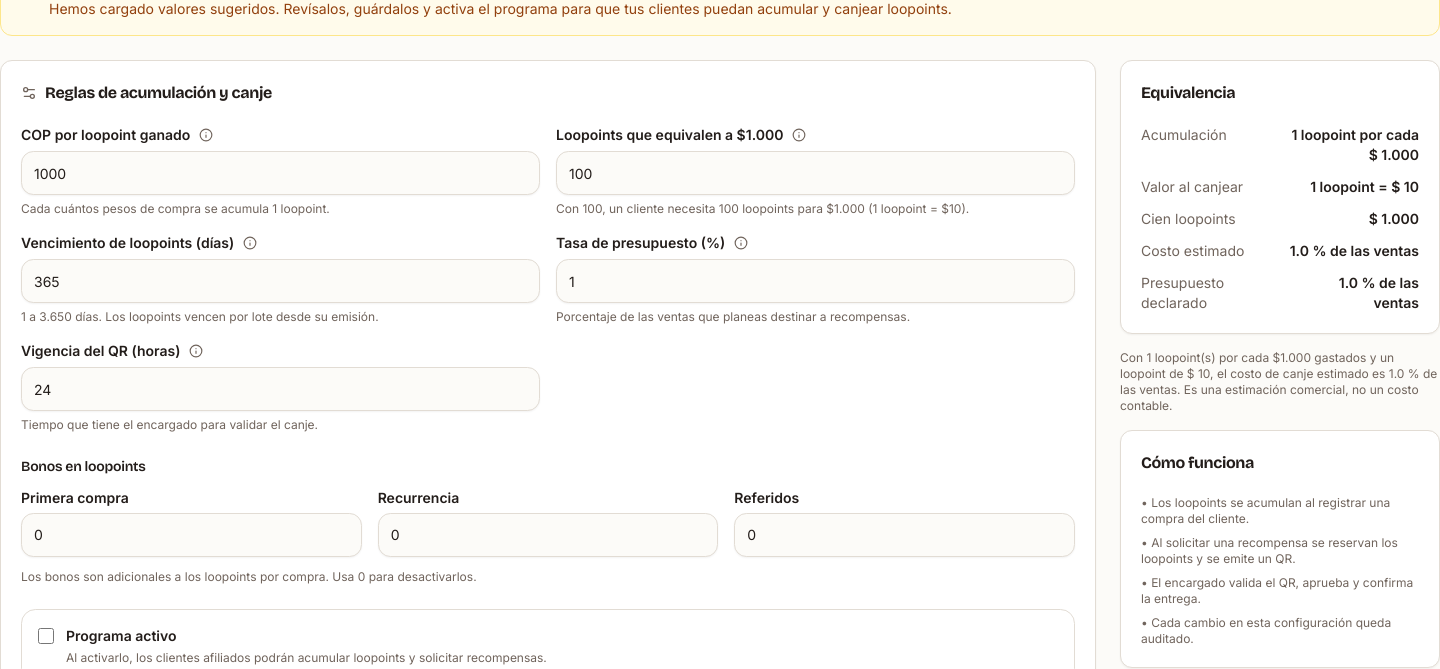
Test: ProgramPage › bloquea el guardado con un vencimiento inválido
The image size is (1440, 669).
Replace the text in the field labelled "Vencimiento de loopoints (días)" with "0": (280, 281) [21, 259, 540, 303]
(page scrolled)
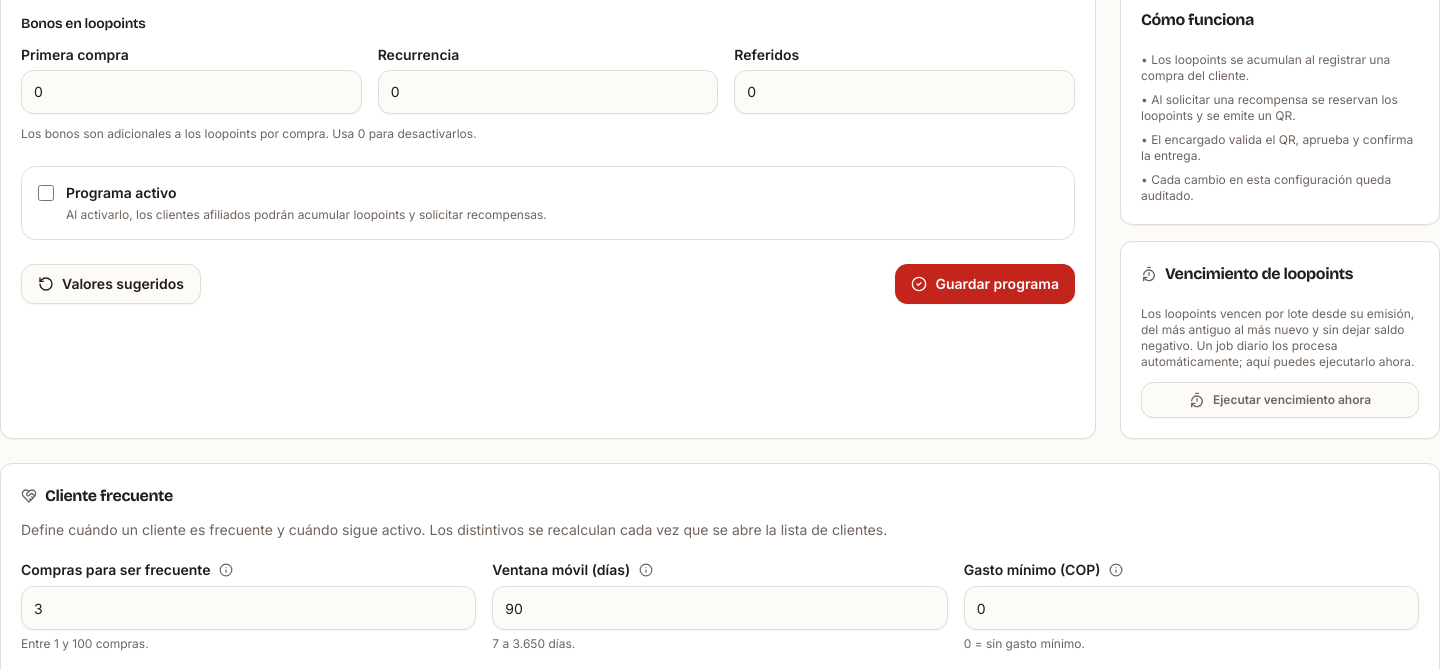
Click the button "Guardar programa": (985, 284) [895, 264, 1075, 304]
(page scrolled)
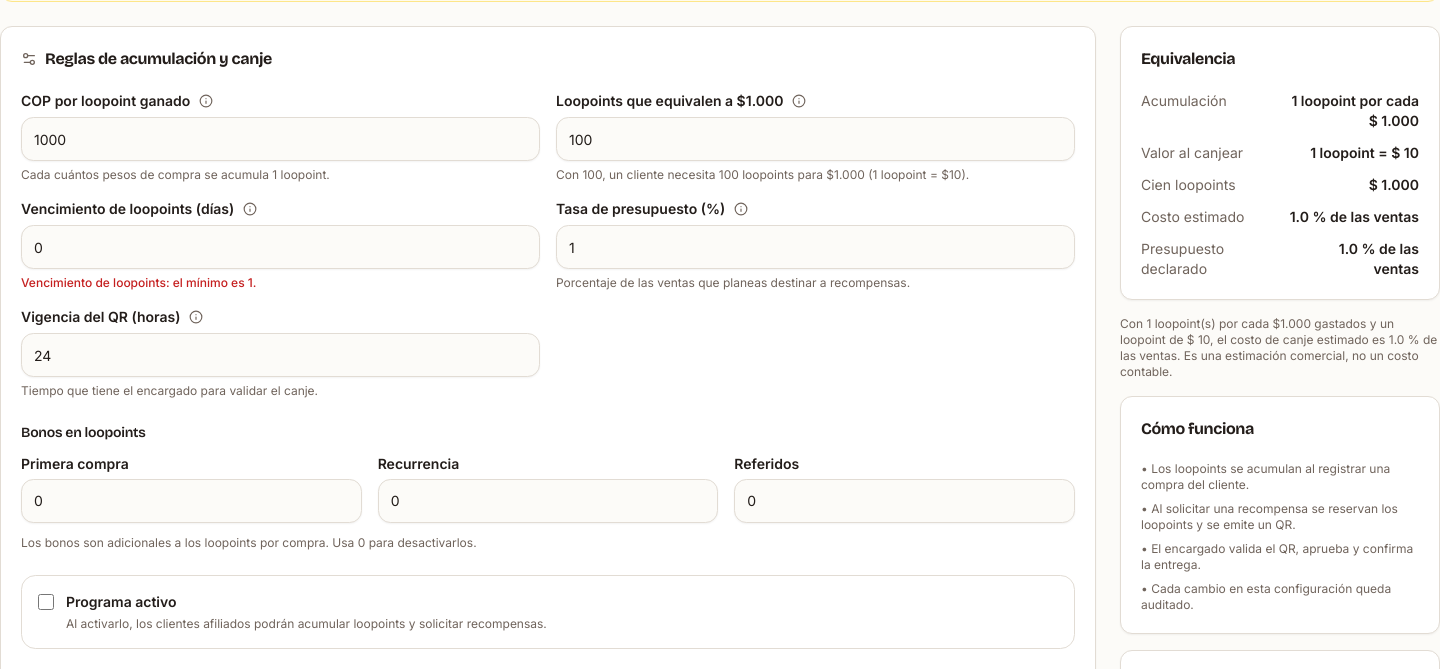
Result: the text "Vencimiento de loopoints: el mínimo es 1." is shown at [21, 275, 256, 290]
